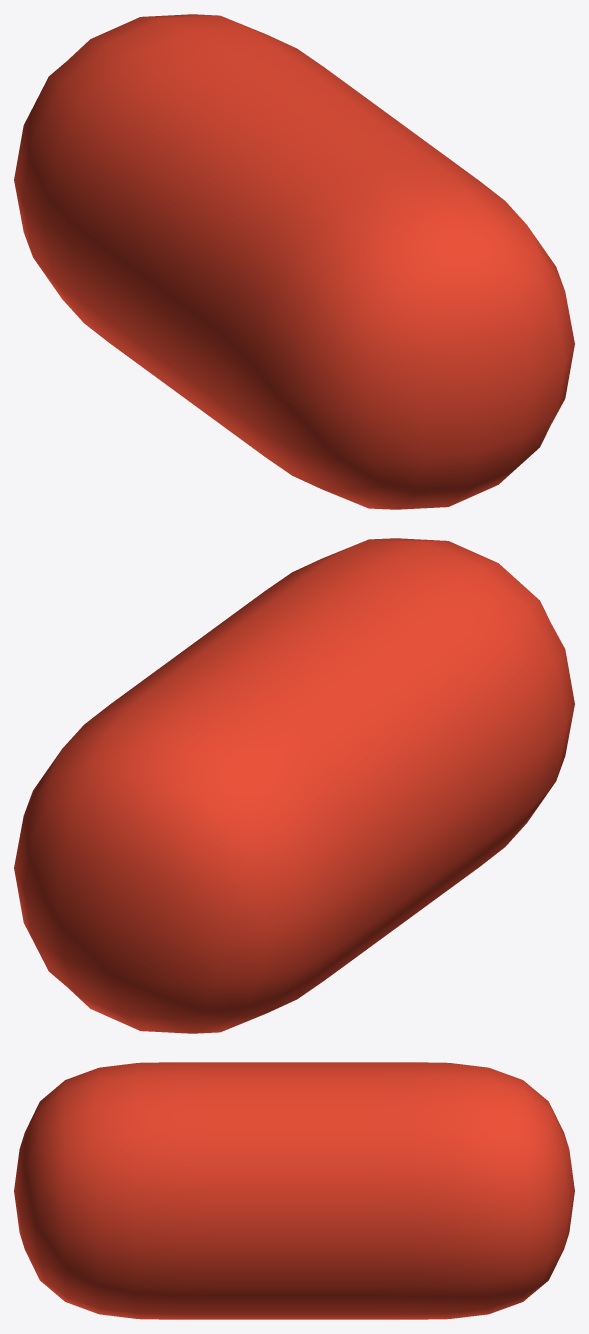
Rendered from pill.fbx.
3 views of the same model, one above another, from view 1: azimuth 30°, elevation 25°; view 2: azimuth 150°, elevation 25°; view 3: azimuth 270°, elevation 25° (orthographic). The views are drawn at different scales.
Parts seen in each view (by area): view 1: Pill; view 2: Pill; view 3: Pill.
Boxes of the visible parts, x1,y1,x2,y2 form: Pill: [14, 14, 574, 509]; Pill: [14, 538, 574, 1033]; Pill: [14, 1062, 574, 1319].
Size of the model in its own units: 183 by 183 by 404.
